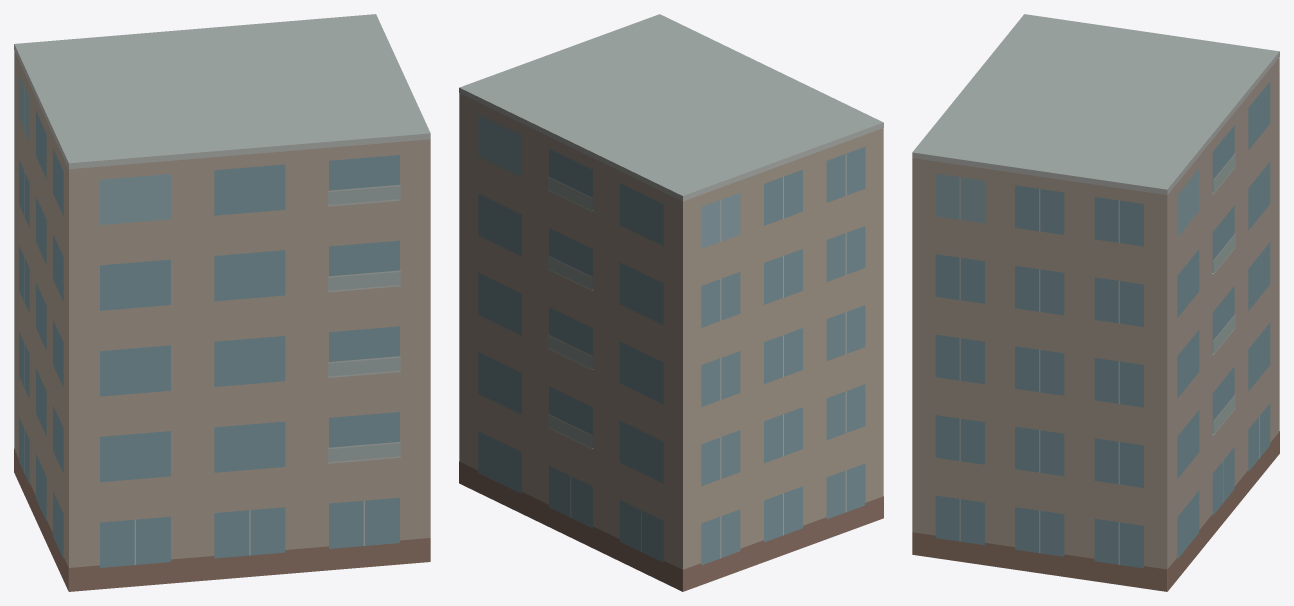
Rendered from survey-upis-32856674.glb.
3 renders of one model, left to right at view 1: azimuth 30°, elevation 25°; view 2: azimuth 150°, elevation 25°; view 3: azimuth 270°, elevation 25°, orthographic. The views are drawn at different scales.
Parts seen in each view (by area): view 1: survey-upis-32856674.tmp; view 2: survey-upis-32856674.tmp; view 3: survey-upis-32856674.tmp.
Boxes of the visible parts, box(x1,y1,x2,y2) form: survey-upis-32856674.tmp: box(14, 14, 430, 591); survey-upis-32856674.tmp: box(459, 14, 883, 591); survey-upis-32856674.tmp: box(912, 14, 1279, 591).
Bounding box in the file's own units: 16.59 × 17.7 × 14.67.
